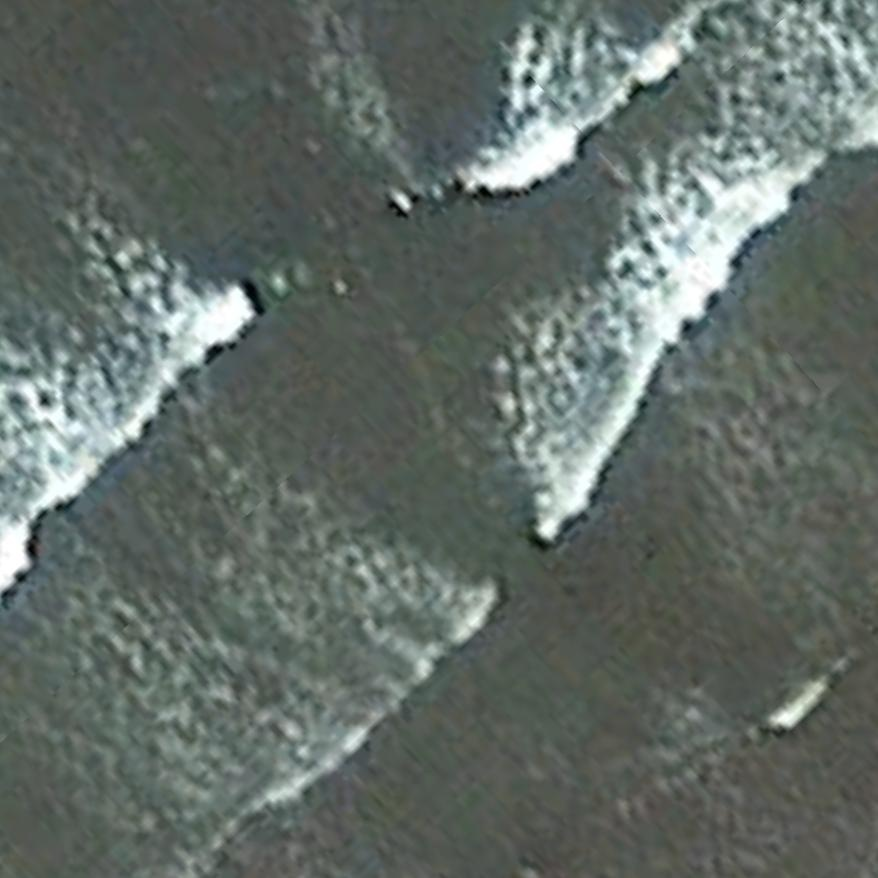rip_current: (174, 170, 618, 652)
